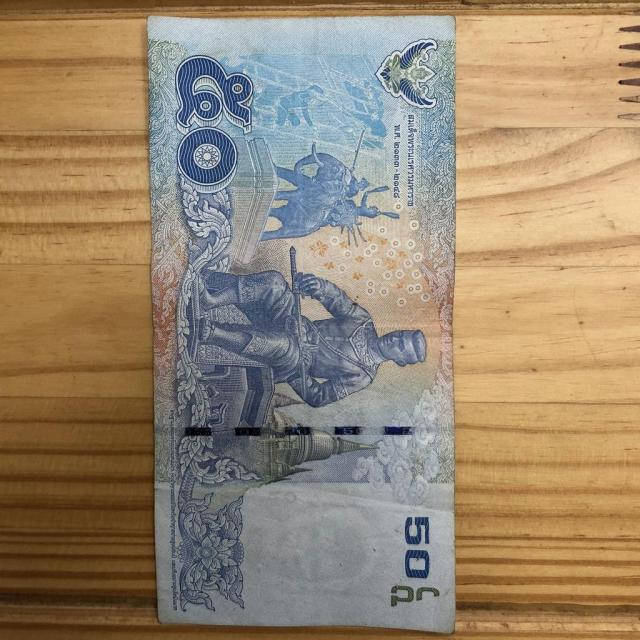THAI50: (146, 15, 454, 632)
